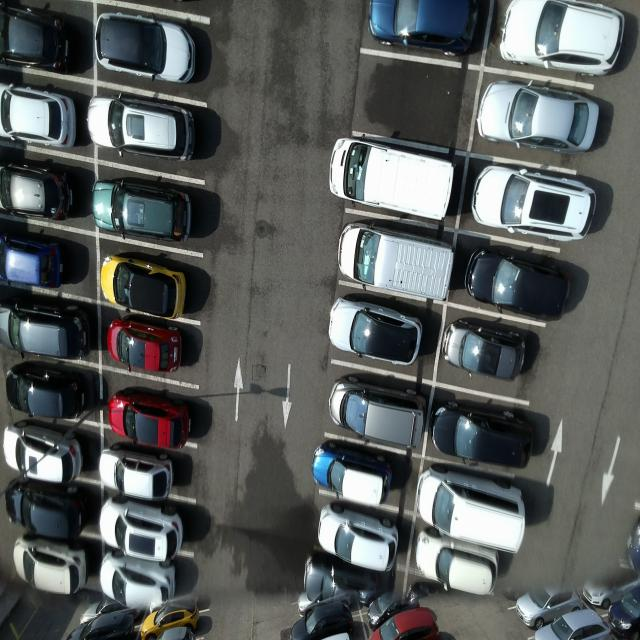car: (328, 138, 457, 224), (471, 164, 599, 245), (414, 471, 530, 556), (478, 78, 602, 157), (500, 2, 628, 78), (334, 226, 457, 305), (466, 244, 574, 327), (94, 10, 200, 88), (430, 400, 536, 473), (86, 97, 200, 164), (89, 177, 197, 247), (326, 376, 430, 448), (328, 298, 424, 368), (97, 251, 190, 322), (316, 502, 404, 575), (98, 497, 188, 567), (417, 524, 502, 597), (1, 82, 83, 156), (108, 386, 194, 453), (441, 320, 531, 383), (312, 443, 399, 508), (1, 301, 92, 363), (1, 421, 86, 485), (5, 364, 89, 428), (1, 484, 89, 542), (103, 318, 188, 378), (1, 163, 79, 225), (95, 446, 179, 502), (14, 542, 91, 600), (98, 552, 178, 607), (1, 231, 71, 293)
free_space: (354, 47, 486, 154)
